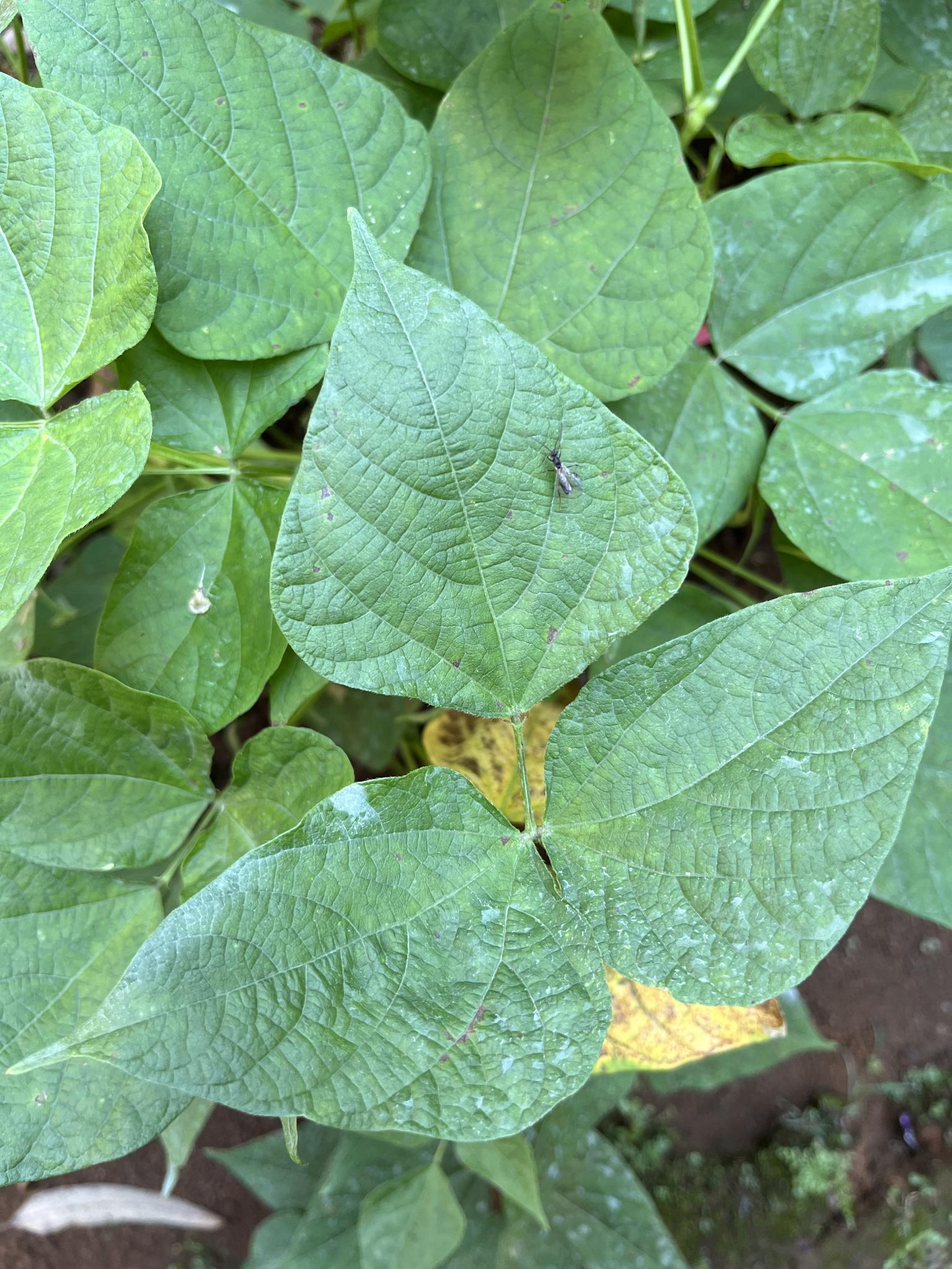embun tepung: (35, 784, 396, 1068), (557, 385, 704, 675)
